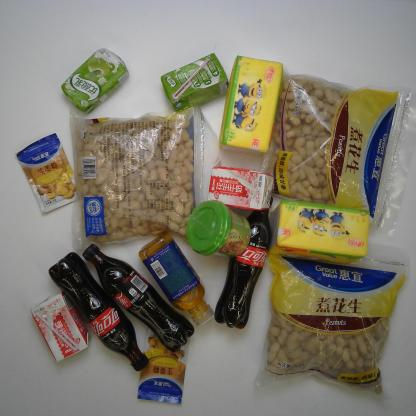Dried Food: (258, 68, 414, 239), (254, 245, 412, 402), (68, 108, 210, 249)
Drink: (82, 241, 195, 349), (48, 252, 148, 371), (214, 205, 274, 330), (139, 230, 213, 326)
Instant Drink: (186, 201, 252, 260)
Milk: (58, 46, 130, 114), (162, 50, 232, 114), (29, 291, 90, 363), (207, 161, 272, 212)
Seasoner: (16, 132, 80, 215), (135, 328, 190, 406)
Tissue: (269, 195, 374, 268), (218, 55, 286, 157)
